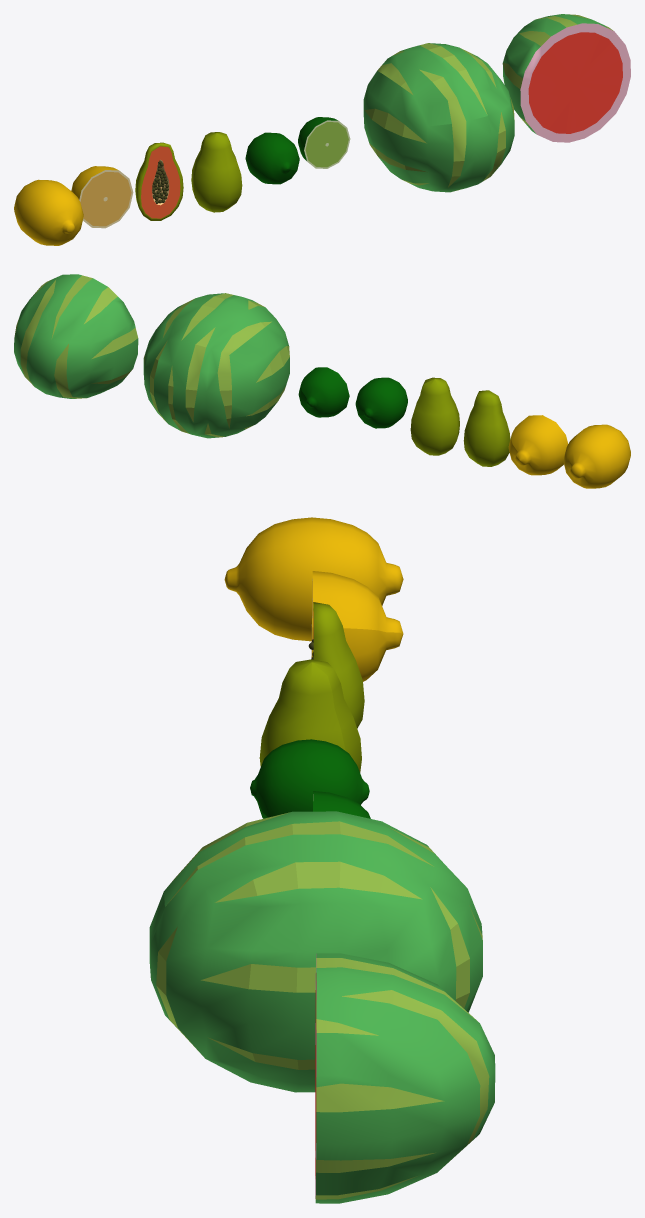
Rendered from Fruits.fbx.
The picture shows the model from 3 angles, top to bottom: view 1: azimuth 30°, elevation 25°; view 2: azimuth 150°, elevation 25°; view 3: azimuth 270°, elevation 25°; orthographic projection. The views are drawn at different scales.
Parts seen in each view (by area): view 1: Watermelon, Watermelon_half, Lemon, Papaya, Papaya_half, Lemon_half, Lime, Lime_half; view 2: Watermelon, Watermelon_half, Lemon, Papaya, Lemon_half, Papaya_half, Lime, Lime_half; view 3: Watermelon, Watermelon_half, Lemon, Papaya, Lime, Lemon_half, Papaya_half, Lime_half.
Boxes of the visible parts, left/top/right/bottom form: Watermelon: left=363, top=43, right=514, bottom=192; Watermelon_half: left=502, top=14, right=630, bottom=142; Lemon: left=14, top=179, right=83, bottom=245; Papaya: left=191, top=132, right=242, bottom=212; Papaya_half: left=135, top=142, right=183, bottom=220; Lemon_half: left=71, top=166, right=133, bottom=228; Lime: left=245, top=132, right=299, bottom=184; Lime_half: left=298, top=117, right=350, bottom=168; Watermelon: left=143, top=293, right=289, bottom=438; Watermelon_half: left=14, top=274, right=138, bottom=398; Lemon: left=563, top=424, right=630, bottom=488; Papaya: left=410, top=377, right=459, bottom=455; Lemon_half: left=508, top=415, right=567, bottom=475; Papaya_half: left=463, top=390, right=510, bottom=466; Lime: left=355, top=377, right=407, bottom=428; Lime_half: left=298, top=367, right=349, bottom=417; Watermelon: left=149, top=811, right=482, bottom=1092; Watermelon_half: left=315, top=953, right=495, bottom=1203; Lemon: left=224, top=517, right=403, bottom=641; Papaya: left=259, top=659, right=361, bottom=772; Lime: left=250, top=739, right=369, bottom=818; Lemon_half: left=311, top=571, right=403, bottom=681; Papaya_half: left=308, top=602, right=364, bottom=728; Lime_half: left=313, top=791, right=370, bottom=818.
Bounding box in the file's own units: 2200 × 446 × 555.
